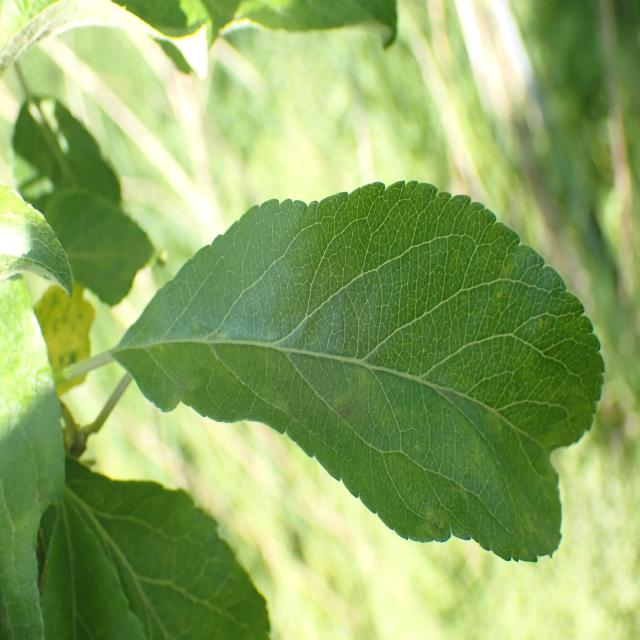scab: (226, 264, 584, 568)
